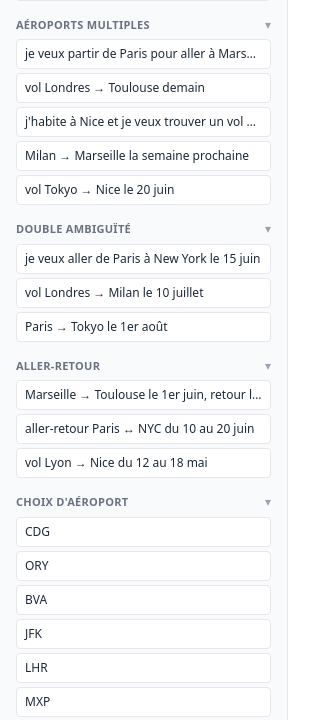
DevPanel — collapsible sections › clicking a section heading hides its body
(page scrolled)
Expected: the button "aller-retour Paris ↔ NYC du 10 au 20 juin" is shown, [16, 414, 271, 444]
The heading is wrapped in a button (disclosure pattern).
Click the button "Aller-retour ▾".
click(144, 366)  # box [16, 358, 271, 374]
(page scrolled)
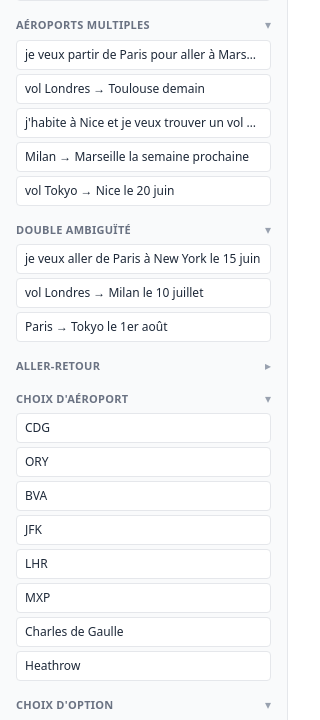
Expected: the button "aller-retour Paris" is gone
